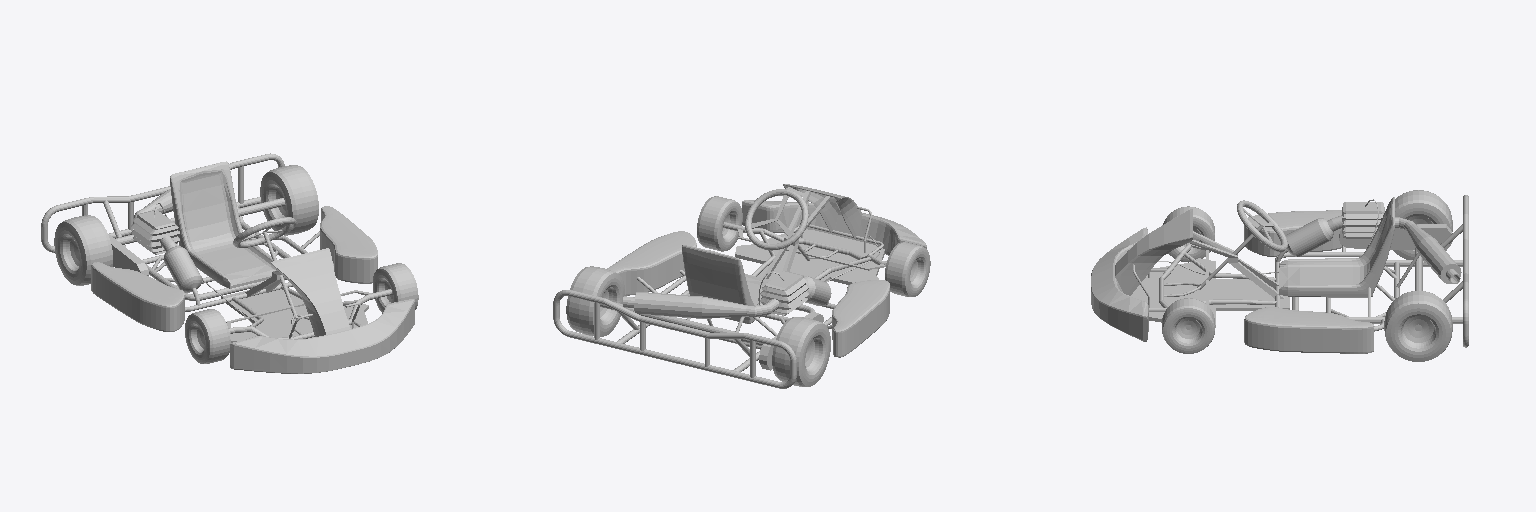
File: Kart.obj
3 renders of one model, left to right at view 1: azimuth 30°, elevation 25°; view 2: azimuth 150°, elevation 25°; view 3: azimuth 270°, elevation 25°, orthographic.
Parts seen in each view (by area): view 1: Object_2, Object_3, Object_4, Object_7, Object_6, Object_5; view 2: Object_2, Object_4, Object_3, Object_6, Object_7, Object_5; view 3: Object_2, Object_4, Object_3, Object_6, Object_7, Object_5.
Boxes of the visible parts, box(x1,y1,x2,y2) form: Object_2: box(82, 161, 392, 342); Object_3: box(146, 222, 414, 373); Object_4: box(41, 153, 377, 339); Object_7: box(54, 165, 318, 285); Object_6: box(60, 184, 418, 363); Object_5: box(233, 217, 296, 247); Object_2: box(594, 184, 886, 377); Object_4: box(553, 201, 889, 388); Object_3: box(617, 191, 926, 371); Object_6: box(600, 196, 930, 374); Object_7: box(566, 266, 830, 386); Object_5: box(745, 189, 808, 250); Object_2: box(1115, 197, 1462, 330); Object_4: box(1133, 195, 1468, 353); Object_3: box(1091, 209, 1462, 341); Object_6: box(1162, 206, 1438, 353); Object_7: box(1384, 190, 1452, 361); Object_5: box(1237, 200, 1287, 251).
Bounding box in the file's own units: 125 × 50.48 × 168.